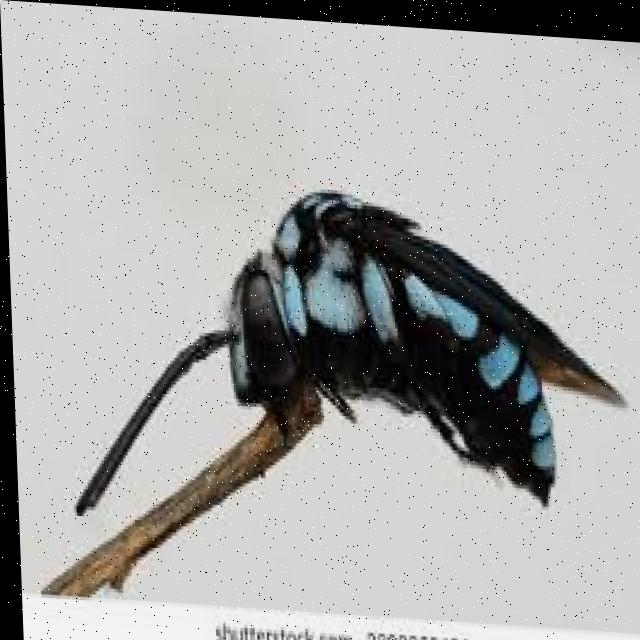Thyreus: (31, 90, 601, 543)
